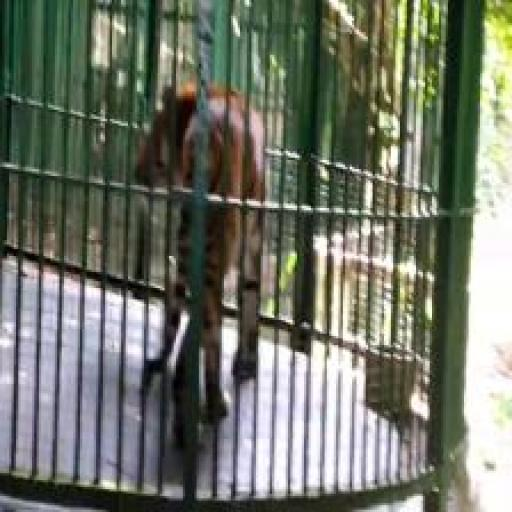Tiger: (110, 69, 272, 440)
